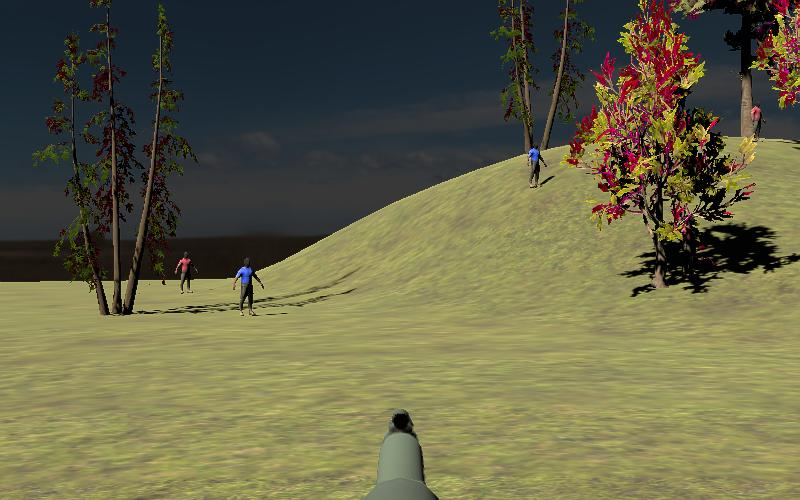Human: (233, 256, 264, 317), (527, 140, 546, 189), (176, 251, 197, 294), (750, 100, 764, 143)
